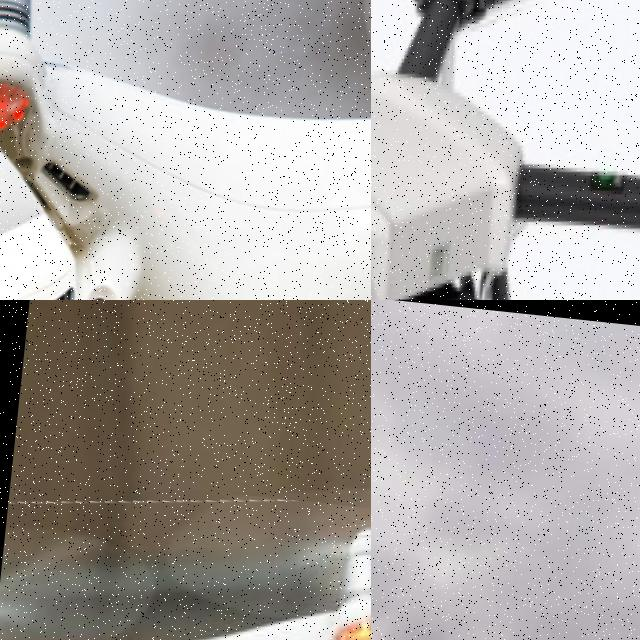0: (0, 470, 371, 640)
drone: (0, 0, 371, 300), (371, 0, 640, 300)
